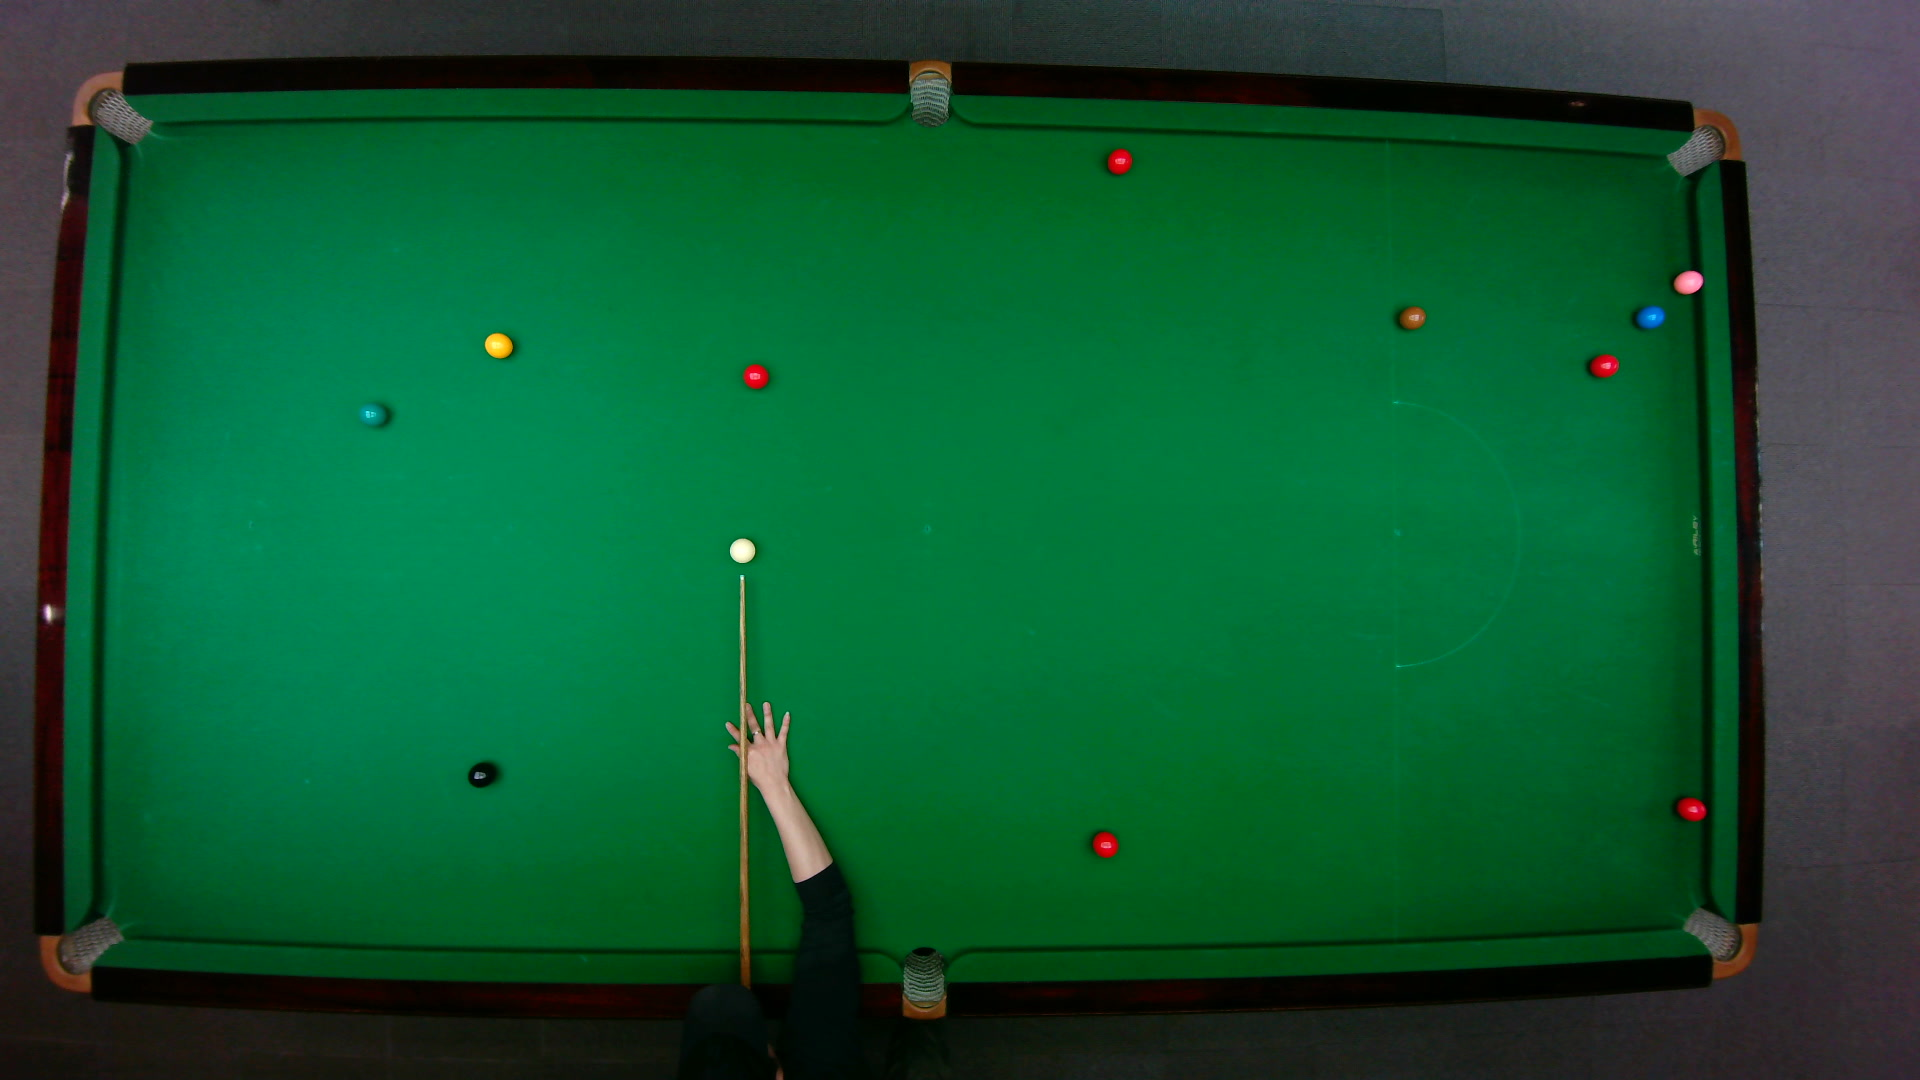bag: (37, 914, 125, 992), (69, 69, 153, 145), (1679, 905, 1758, 978), (1663, 108, 1741, 177), (901, 944, 945, 1021), (909, 57, 949, 127)
black: (465, 760, 496, 789)
blue: (1634, 303, 1665, 328)
brown: (1396, 305, 1427, 328)
cue: (738, 571, 749, 990)
green: (357, 401, 386, 427)
pink: (1669, 266, 1705, 295)
red: (1089, 828, 1120, 858), (1673, 795, 1708, 822), (1586, 352, 1619, 378), (1104, 146, 1133, 175), (741, 363, 767, 389)
white: (727, 535, 756, 563)
yellow: (483, 330, 514, 359)
zone: (1390, 400, 1520, 669)
